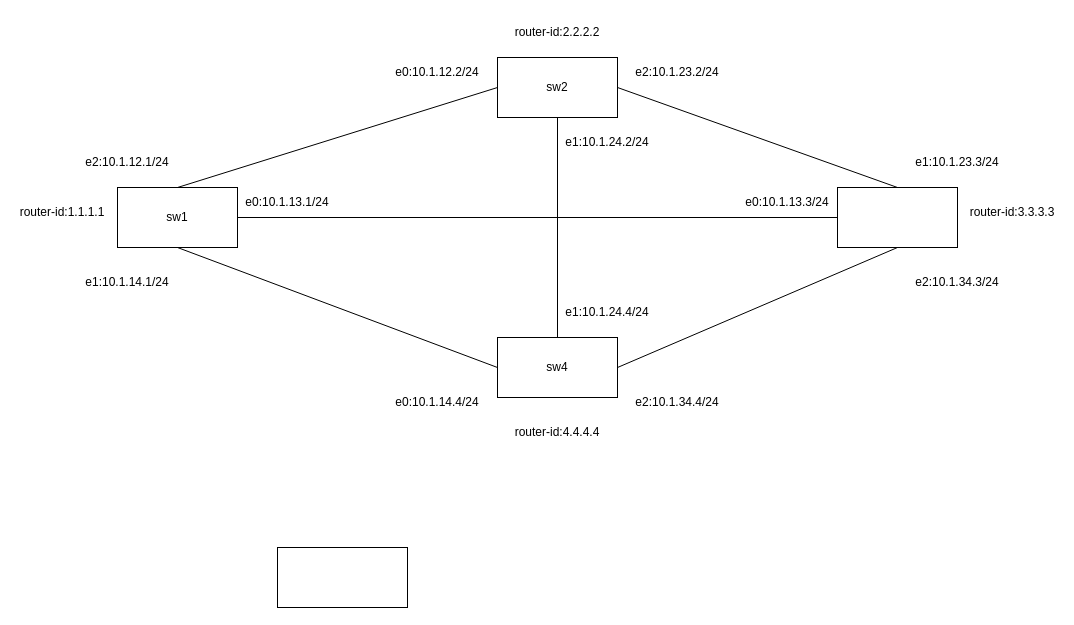
This 1074x625 diagram has some shape labels left out. The box of each missing label's shape, as (x1, y1, x2, y2) in pixels:
ospf-all.mcast.net: (276, 546, 408, 608)
sw3: (836, 186, 958, 248)
